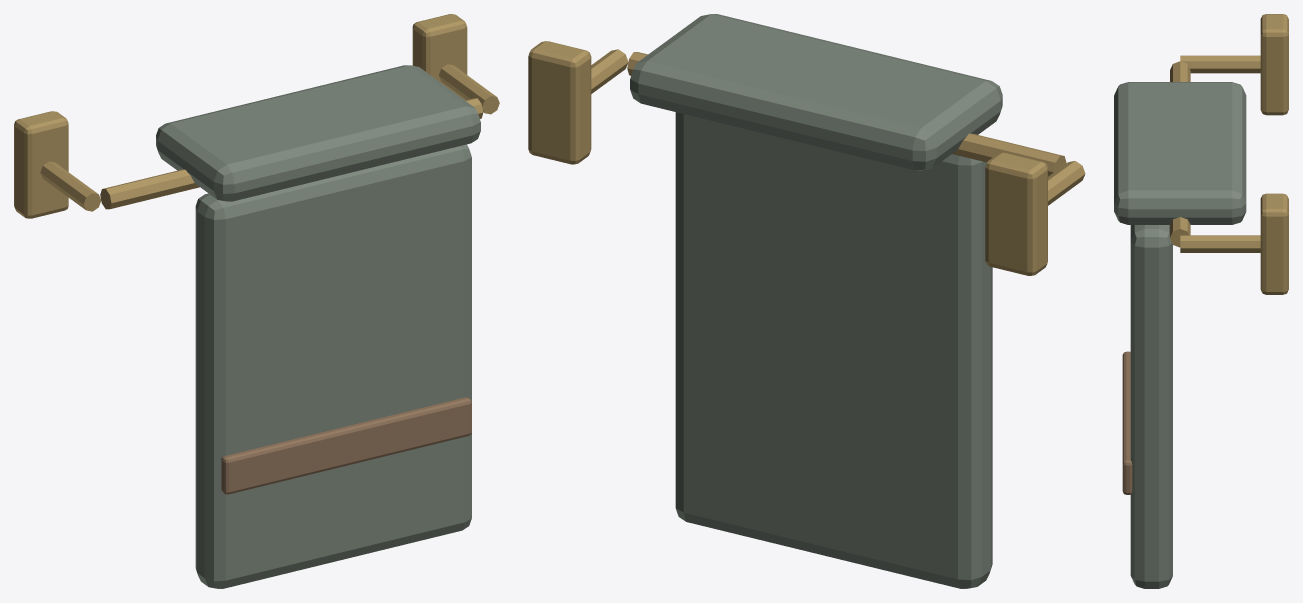
3 views of the same model, side by side, from view 1: azimuth 30°, elevation 25°; view 2: azimuth 150°, elevation 25°; view 3: azimuth 270°, elevation 25° (orthographic). The views are drawn at different scales.
Visible parts, largest first — view 1: towelRail; view 2: towelRail; view 3: towelRail.
Boxes of the visible parts, box(x1,y1,x2,y2) form: towelRail: box(14, 14, 499, 588); towelRail: box(528, 14, 1085, 588); towelRail: box(1114, 14, 1288, 588).
Bounding box in the file's own units: 0.5 × 0.48 × 0.185.
